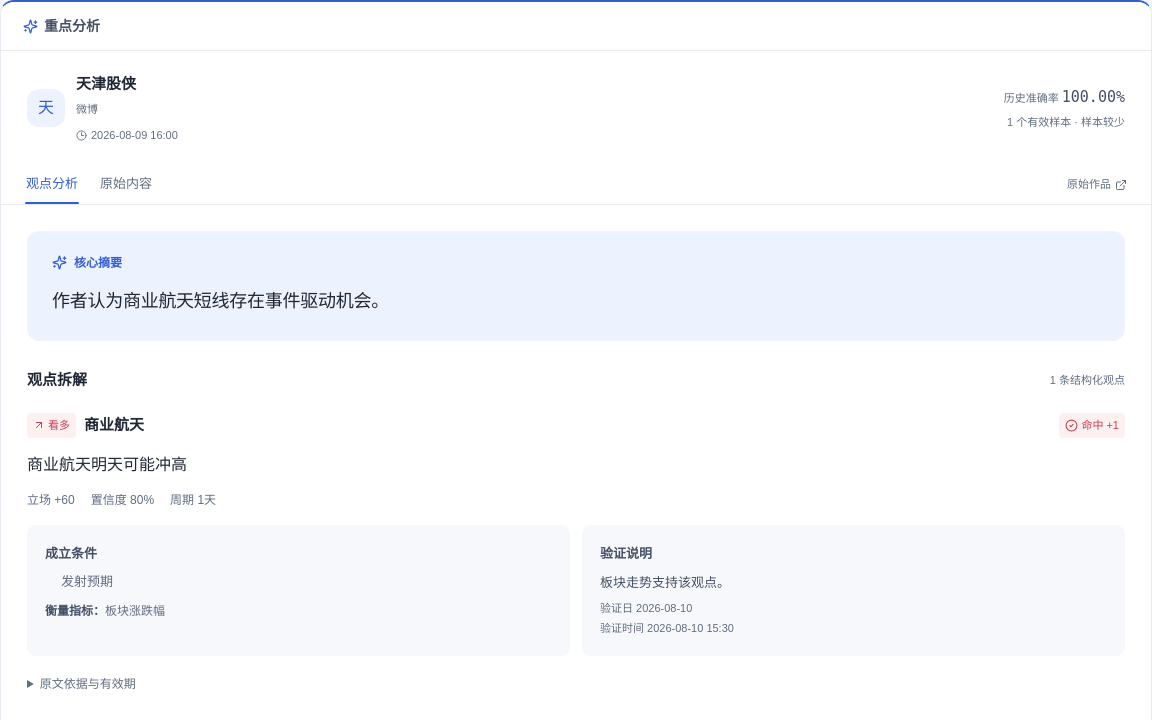
Test: CreatorWorkDetailPanel › keeps the reading tab when switching works and starts the next work at the top
Click the button "原始内容" at [126, 184], box [99,166,153,204]
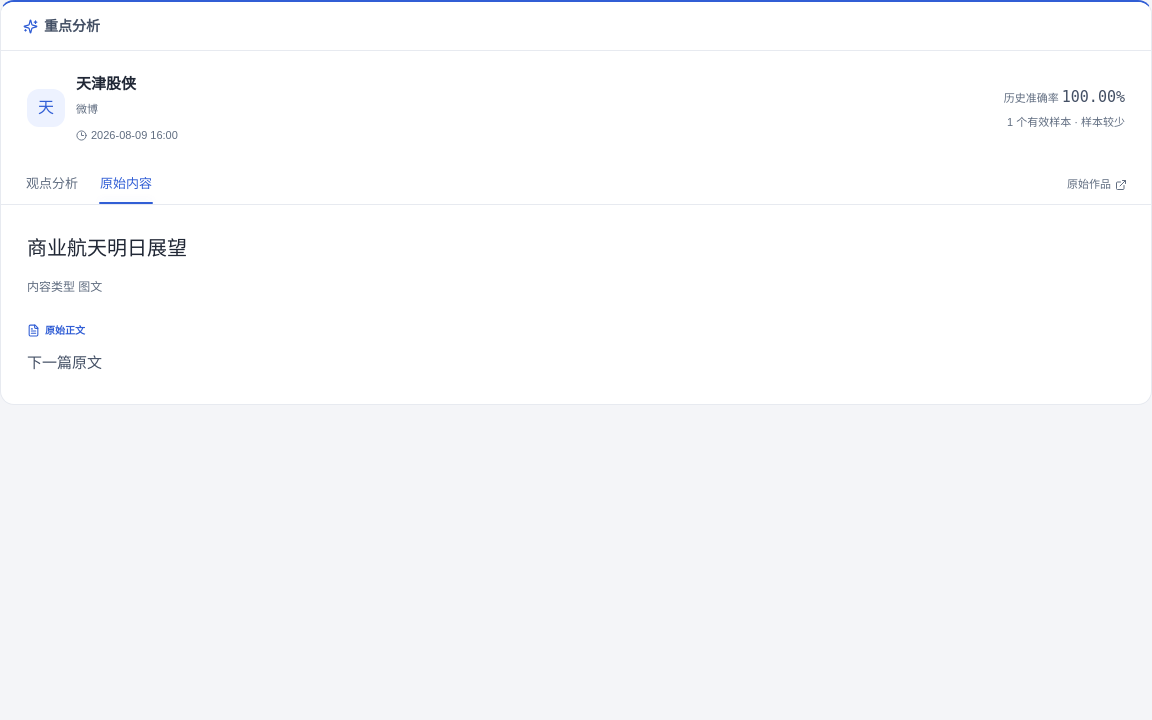
Now the element with class "creator-source-pane" shows "下一篇原文", box [27,354,102,370]
